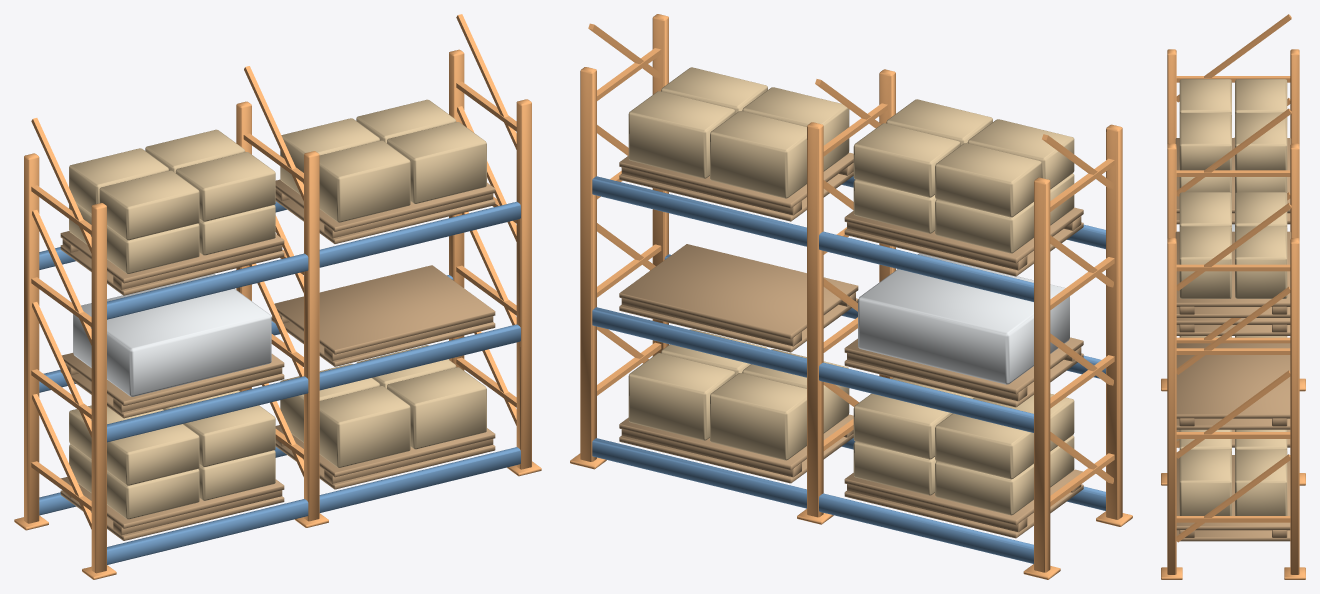
File: pallet_rack.glb
The picture shows the model from 3 angles, left to right: view 1: azimuth 30°, elevation 25°; view 2: azimuth 150°, elevation 25°; view 3: azimuth 270°, elevation 25°; orthographic projection. The views are drawn at different scales.
Visible parts, largest first — view 1: Body; view 2: Body; view 3: Body.
Boxes of the visible parts, x1=… form: Body: x1=14, y1=14, x2=541, y2=579; Body: x1=570, y1=14, x2=1132, y2=579; Body: x1=1161, y1=14, x2=1305, y2=579.
Size of the model in its own units: 3.06 by 2.66 by 0.94.
